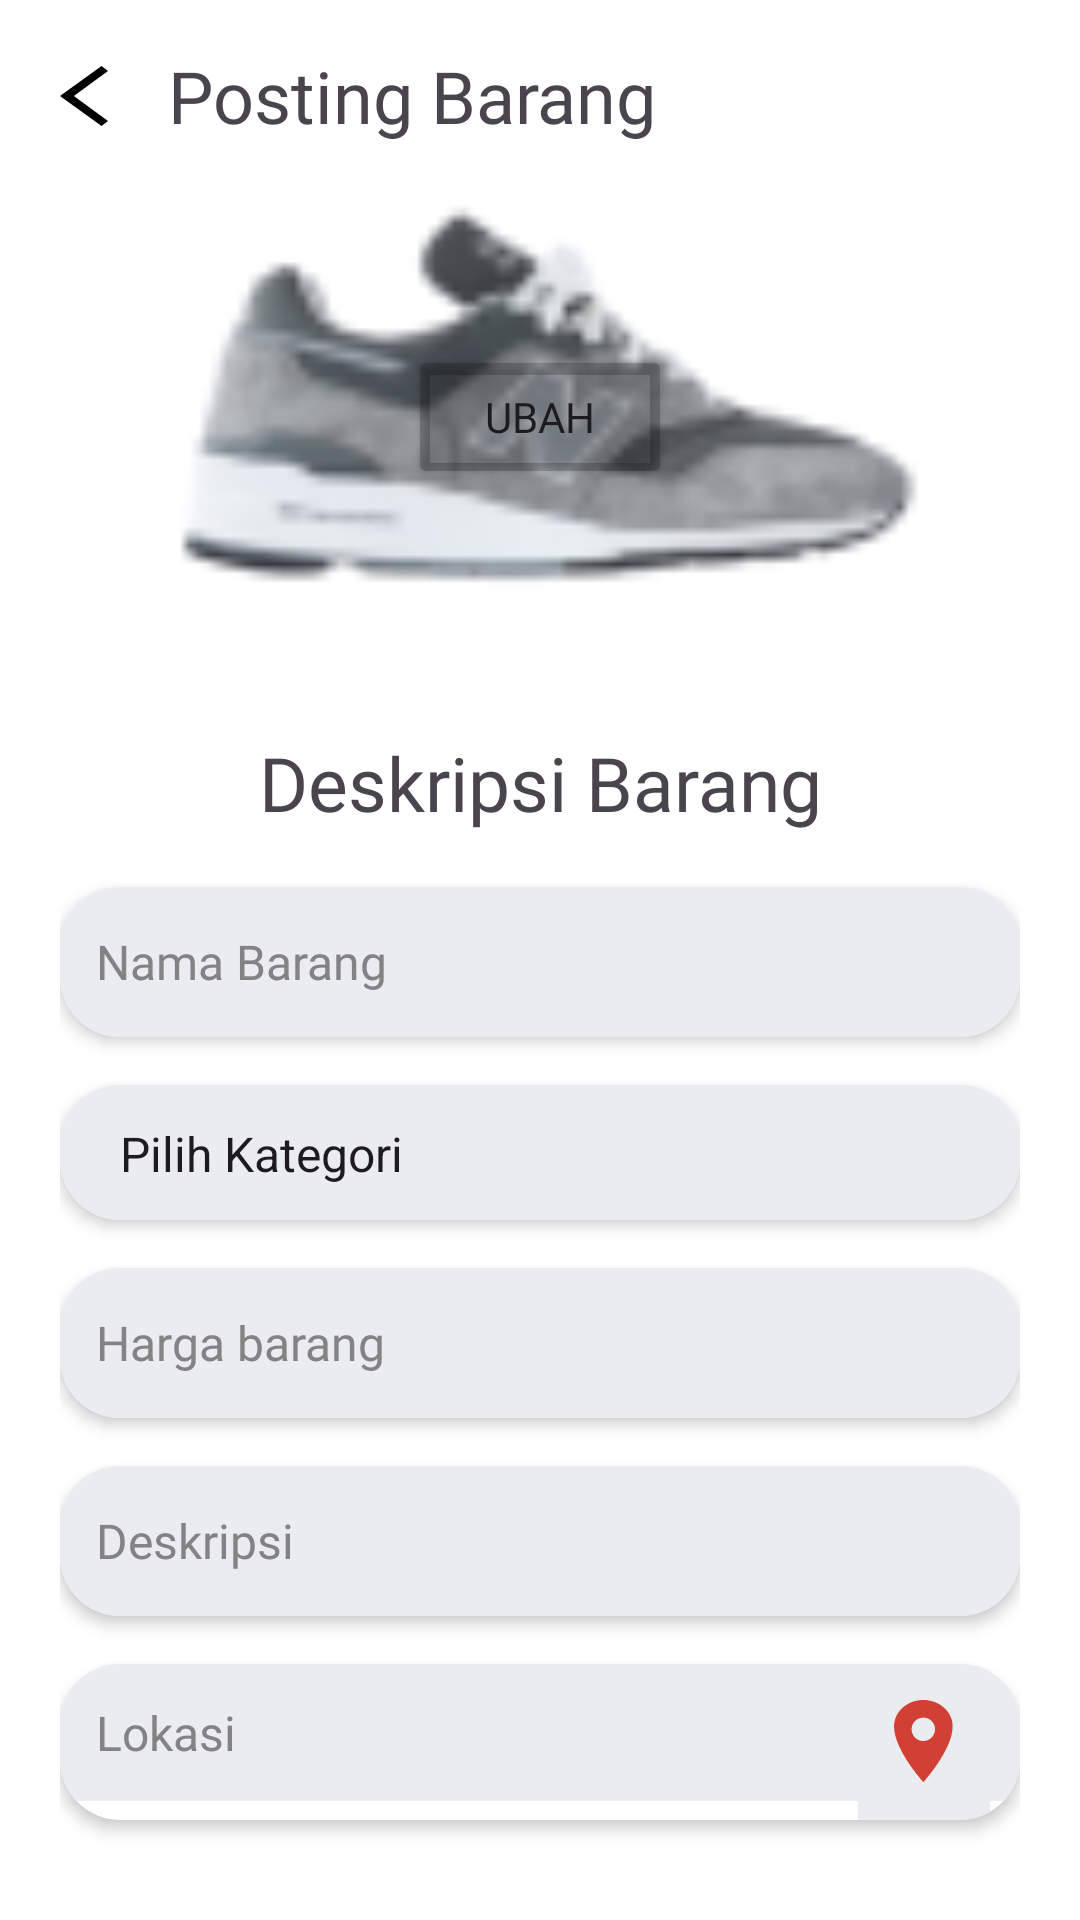

Point at icon controls on the screen. Image size 1080px×1920px, points as (x=x, y=y).
location: (x=923, y=1741)
